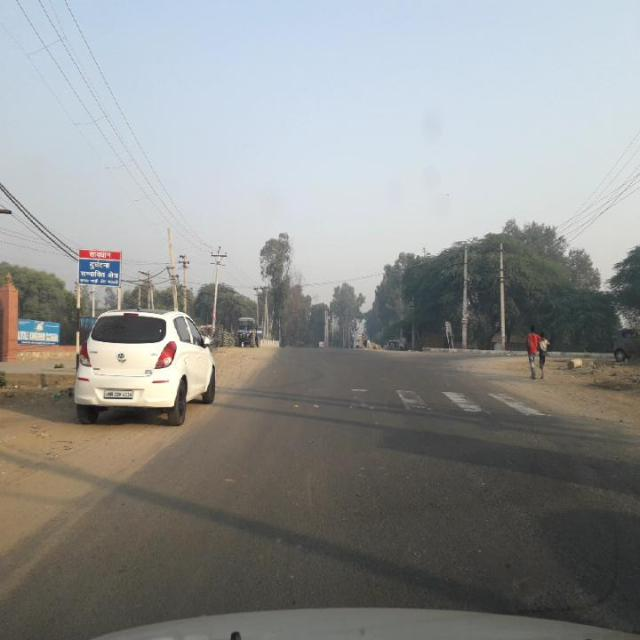D43: (231, 376, 541, 428)
